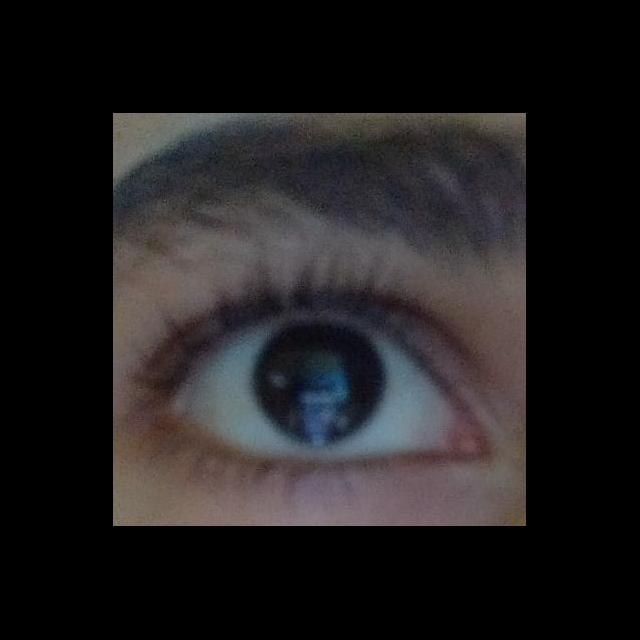eye: (178, 315, 464, 464)
iris: (254, 323, 384, 446)
